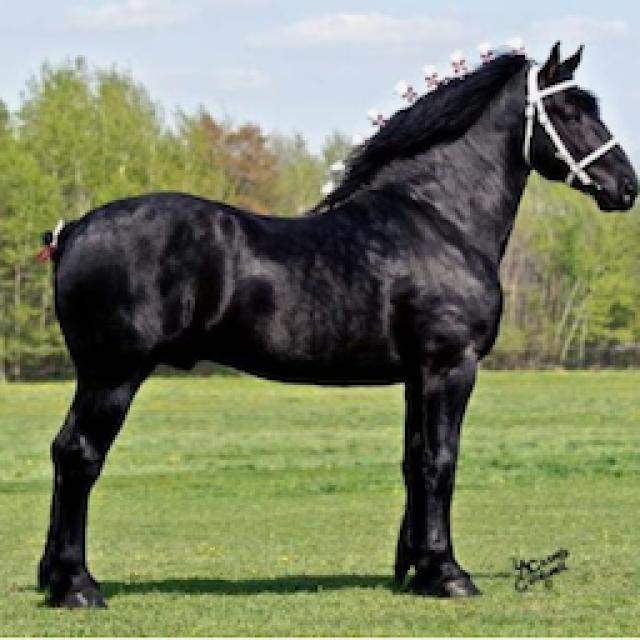Horse: (22, 35, 638, 613)
